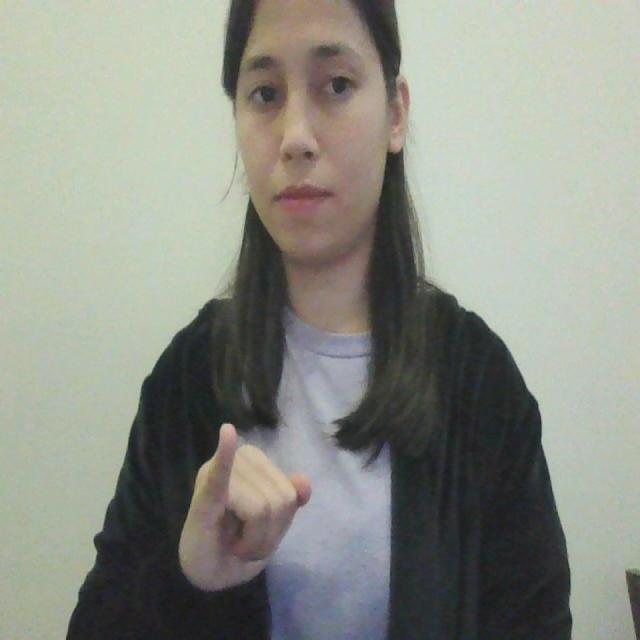kotu: (175, 408, 317, 598)
